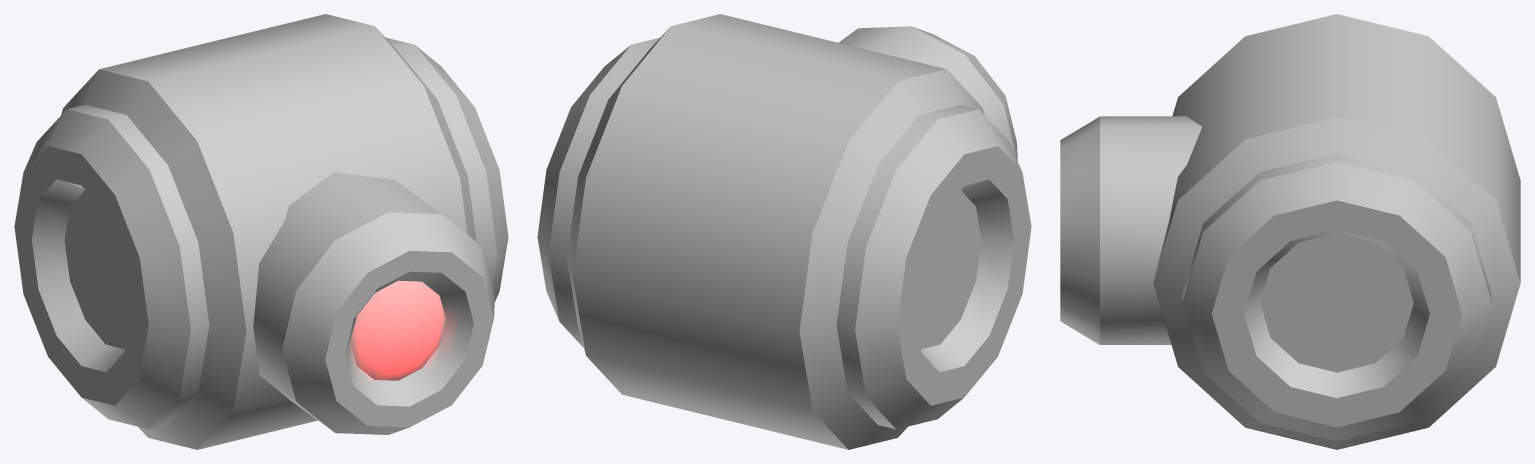
Rendered from SM_QuadroidEyeVertical.fbx.
3 renders of one model, left to right at view 1: azimuth 30°, elevation 25°; view 2: azimuth 150°, elevation 25°; view 3: azimuth 270°, elevation 25°, orthographic. The views are drawn at different scales.
Parts seen in each view (by area): view 1: SM_QuadroidEyeVertical; view 2: SM_QuadroidEyeVertical; view 3: SM_QuadroidEyeVertical.
Part boxes in pixels (box(x1,y1,x2,y2)): SM_QuadroidEyeVertical: box(14, 14, 508, 449); SM_QuadroidEyeVertical: box(537, 14, 1031, 449); SM_QuadroidEyeVertical: box(1060, 14, 1520, 449).
Size of the model in its own units: 39.2 by 37.11 by 46.51.
